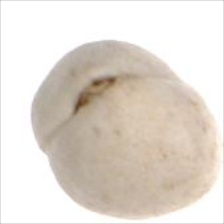L3: (73, 74, 121, 111)
L4: (30, 39, 220, 219)
